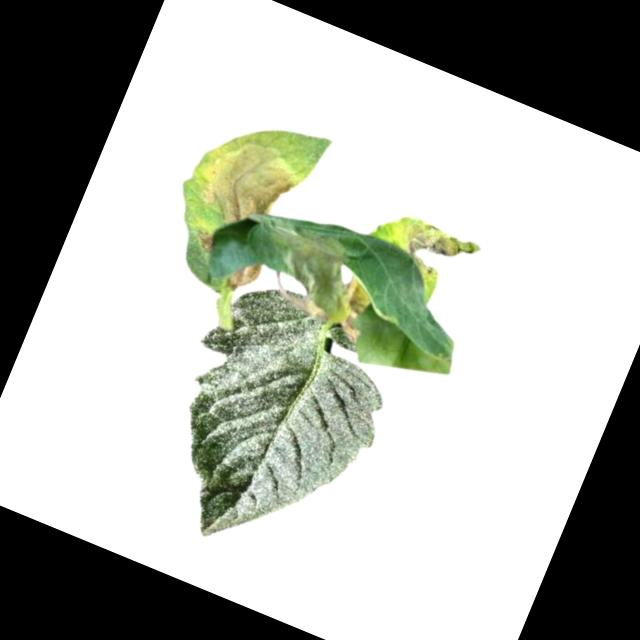Late_blight: (189, 123, 310, 242), (251, 214, 358, 321), (383, 211, 484, 297), (323, 273, 380, 343), (221, 251, 264, 296), (183, 222, 216, 253)
healthy: (130, 268, 412, 584)
